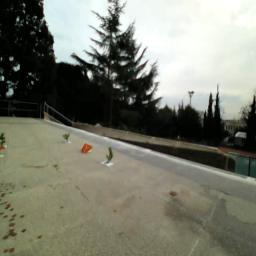herb: (107, 147, 115, 164), (1, 133, 8, 148), (64, 134, 72, 144)
wild: (82, 144, 94, 155)
